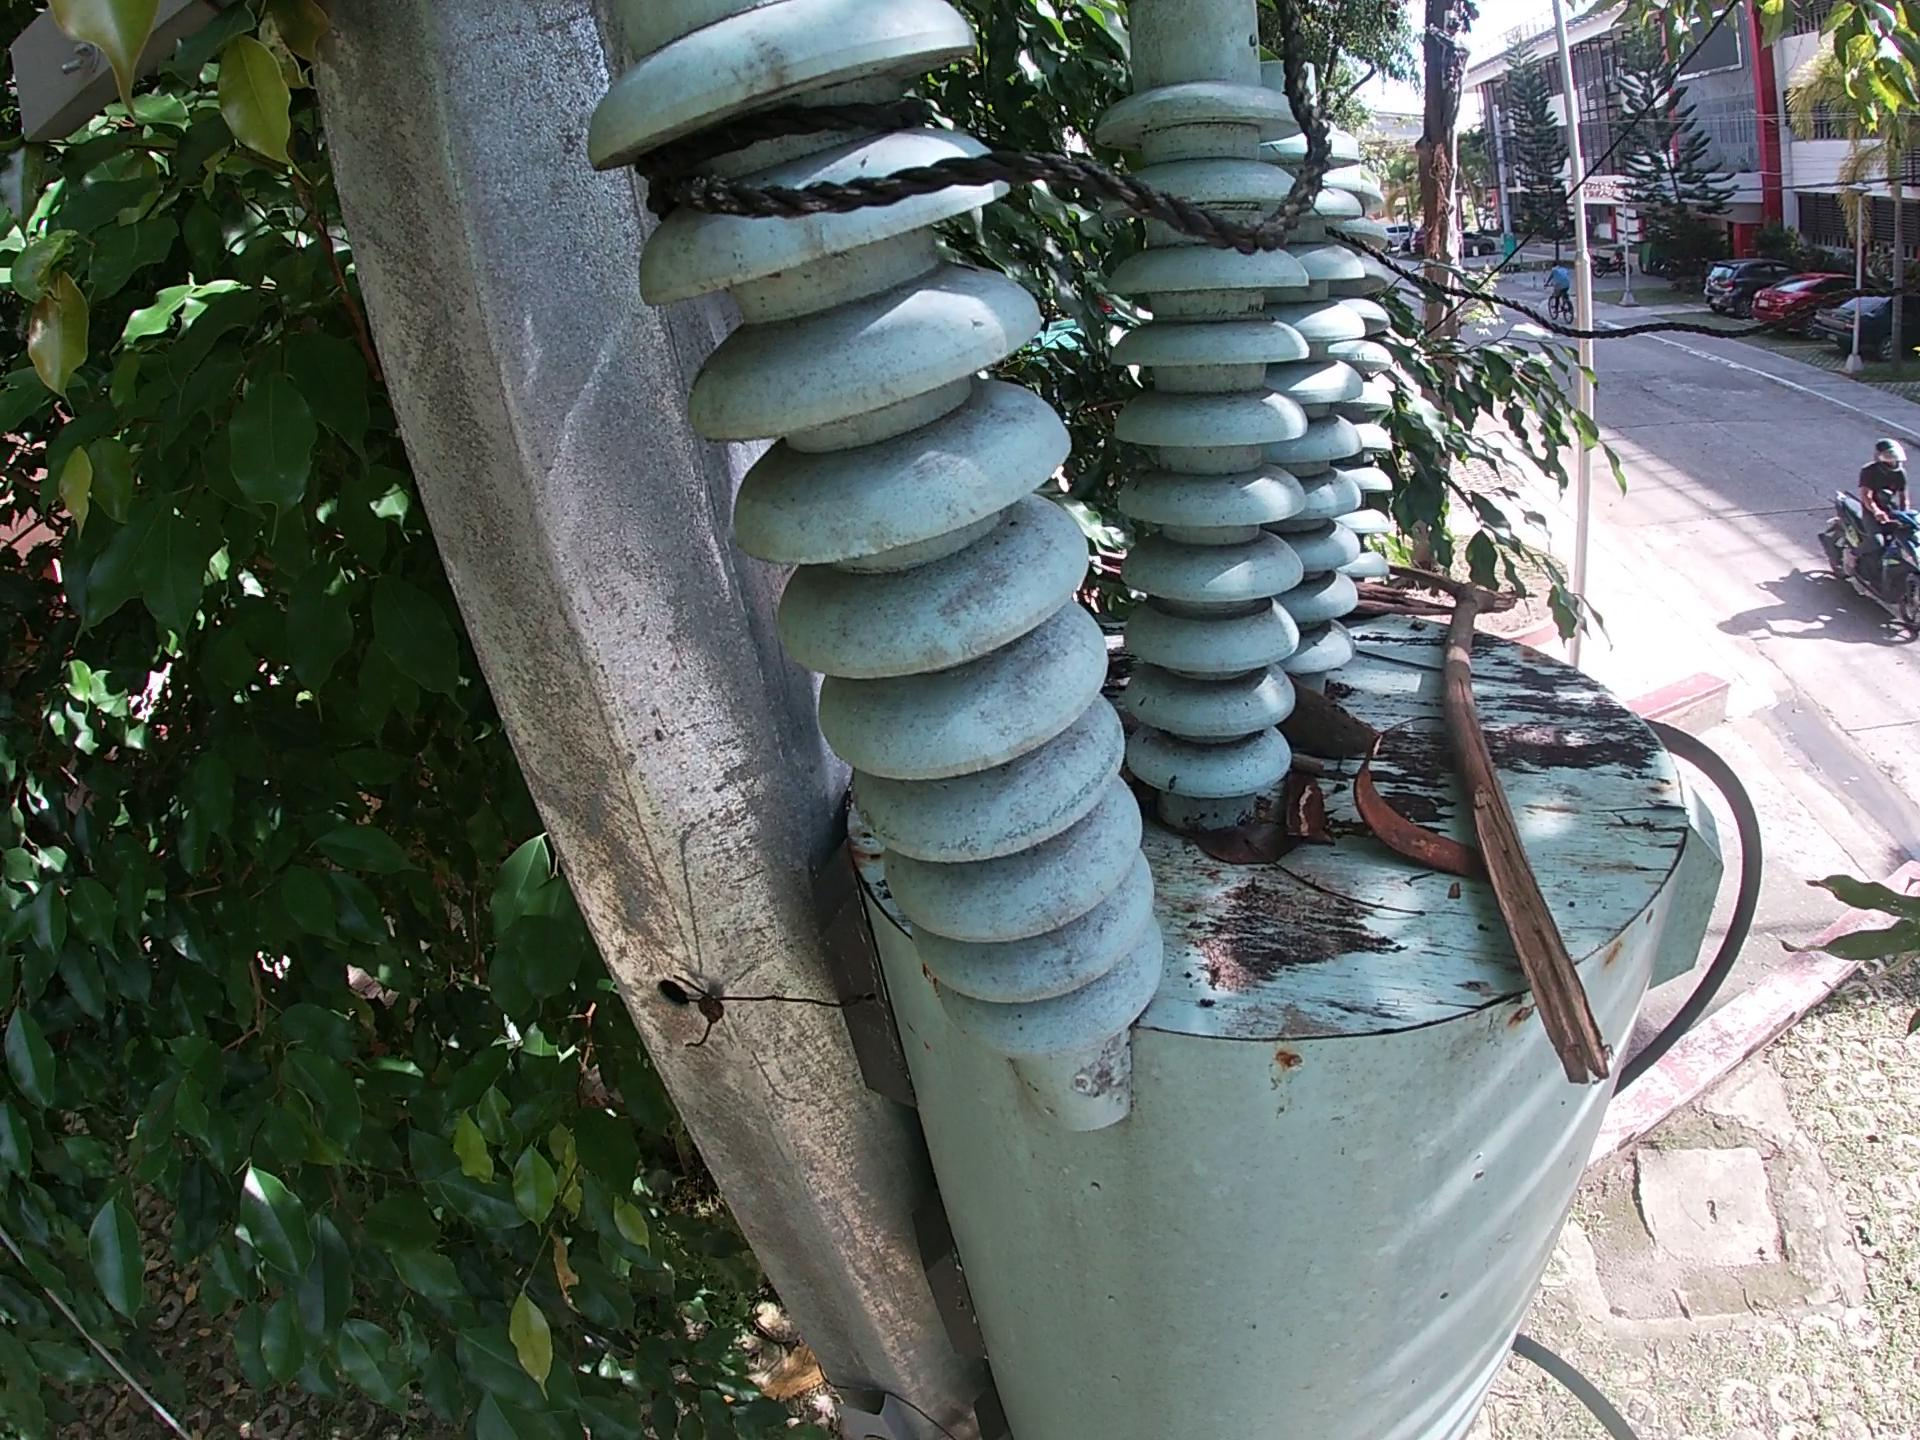tree branch: (1398, 548, 1645, 1094), (1347, 640, 1612, 694), (1274, 867, 1423, 930), (1284, 771, 1339, 846), (1359, 579, 1448, 619), (1288, 753, 1338, 782), (1081, 551, 1120, 584)
